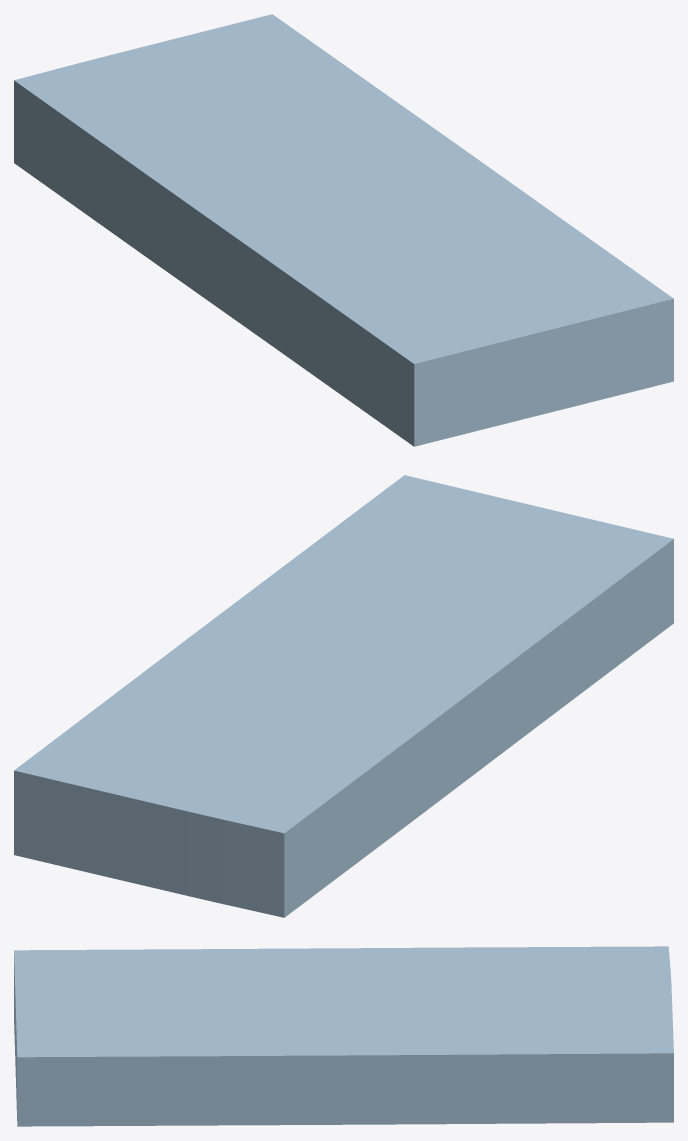
File: osm_way_223859784.glb
3 views of the same model, one above another, from view 1: azimuth 30°, elevation 25°; view 2: azimuth 150°, elevation 25°; view 3: azimuth 270°, elevation 25° (orthographic). The views are drawn at different scales.
Parts seen in each view (by area): view 1: osm_way_223859784; view 2: osm_way_223859784; view 3: osm_way_223859784.
Boxes of the visible parts, <box> form: osm_way_223859784: <box>14,14,673,446</box>; osm_way_223859784: <box>14,475,673,917</box>; osm_way_223859784: <box>14,946,673,1126</box>.
Size of the model in its own units: 43.21 by 12.6 by 109.
